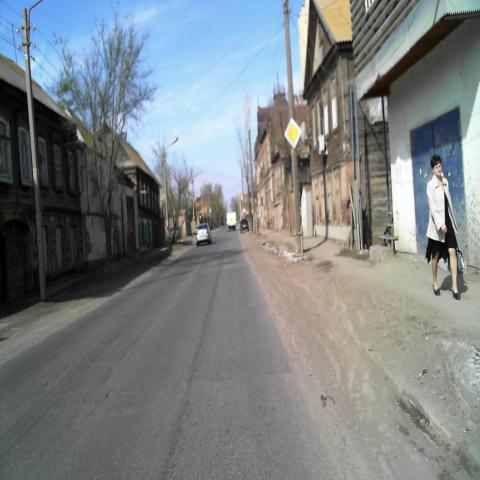2_1: (284, 117, 302, 149)
